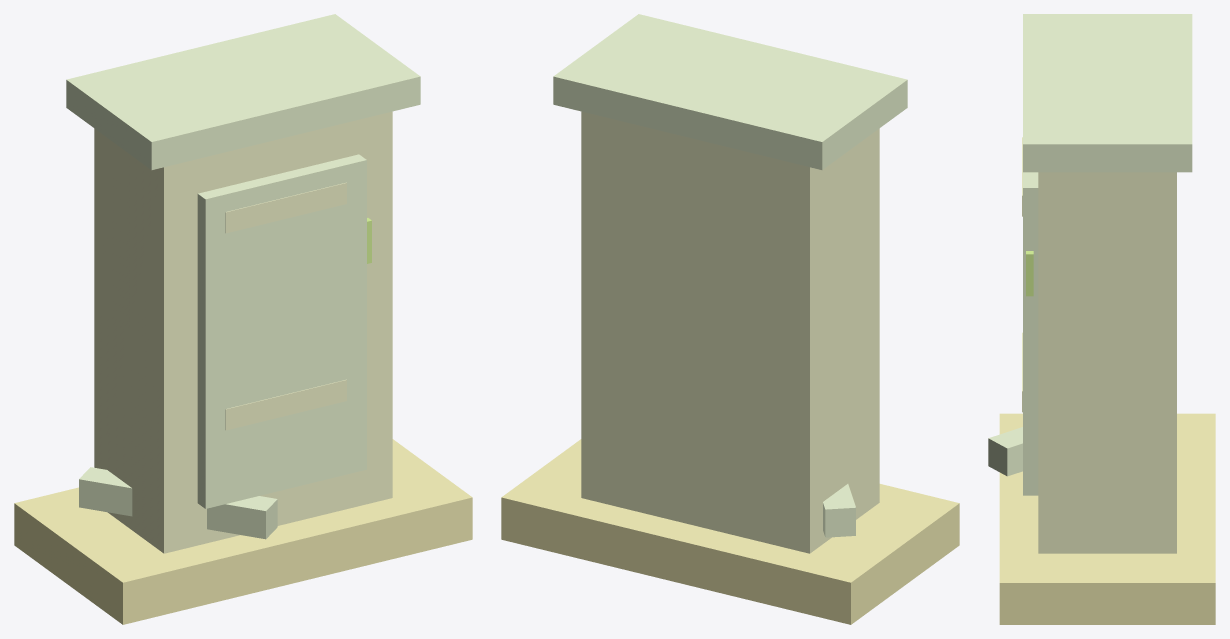
File: furniture_shelter_lighting_inverter_box.glb
3 views of the same model, side by side, from view 1: azimuth 30°, elevation 25°; view 2: azimuth 150°, elevation 25°; view 3: azimuth 270°, elevation 25° (orthographic).
Visible parts, largest first — view 1: body, door_face, pad, top_cap, conduit_stub, vent_upper, vent_lower; view 2: body, pad, top_cap, conduit_stub; view 3: body, top_cap, pad, door_face, conduit_stub, status_lens.
Boxes of the visible parts, left/top/right/bottom form: body: left=94, top=111, right=392, bottom=553; door_face: left=197, top=154, right=366, bottom=508; pad: left=14, top=439, right=472, bottom=624; top_cap: left=66, top=14, right=420, bottom=169; conduit_stub: left=79, top=467, right=277, bottom=539; vent_upper: left=225, top=182, right=346, bottom=233; vent_lower: left=225, top=379, right=346, bottom=430; body: left=581, top=111, right=879, bottom=553; pad: left=501, top=439, right=959, bottom=624; top_cap: left=553, top=14, right=907, bottom=169; conduit_stub: left=823, top=484, right=855, bottom=537; body: left=1038, top=172, right=1176, bottom=553; top_cap: left=1023, top=14, right=1192, bottom=172; pad: left=999, top=413, right=1215, bottom=624; door_face: left=1023, top=172, right=1038, bottom=495; conduit_stub: left=988, top=427, right=1022, bottom=476; status_lens: left=1026, top=251, right=1033, bottom=296.
Size of the model in its own units: 0.52 by 0.66 by 0.2948.
